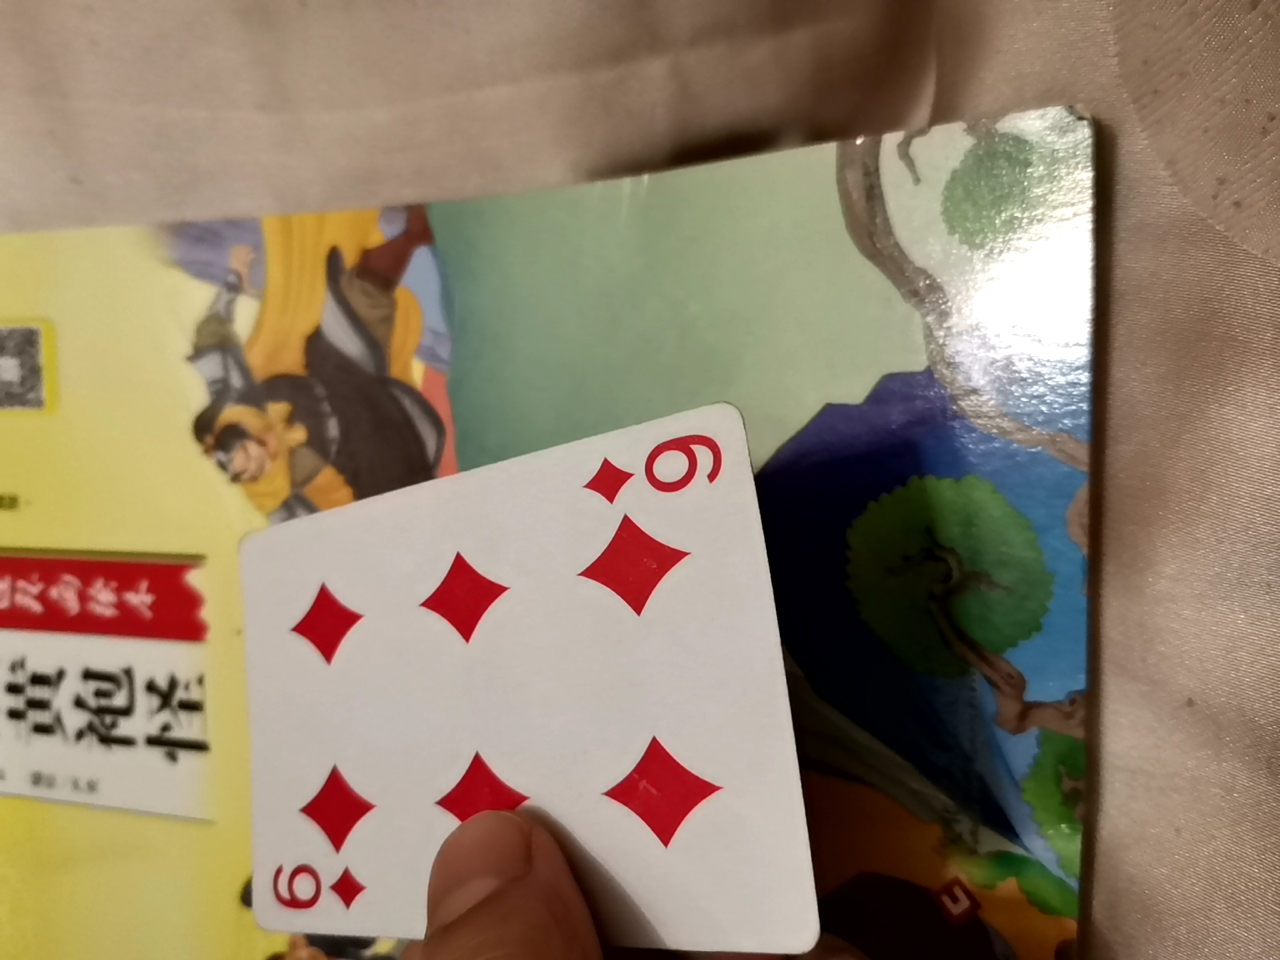fk 6: (196, 416, 808, 951)
